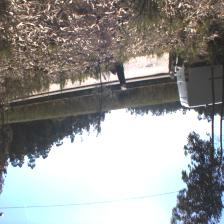trunktrack_idkeyframe: (212, 64, 217, 100), (220, 62, 224, 99)
